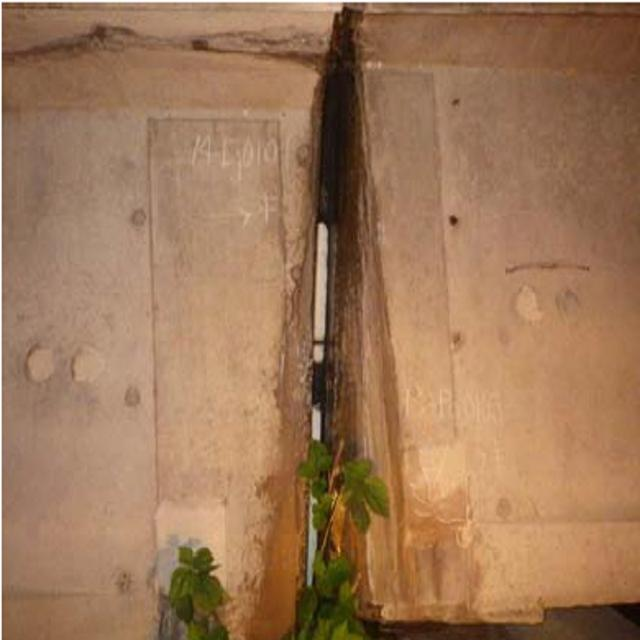leakage: (234, 17, 489, 640)
